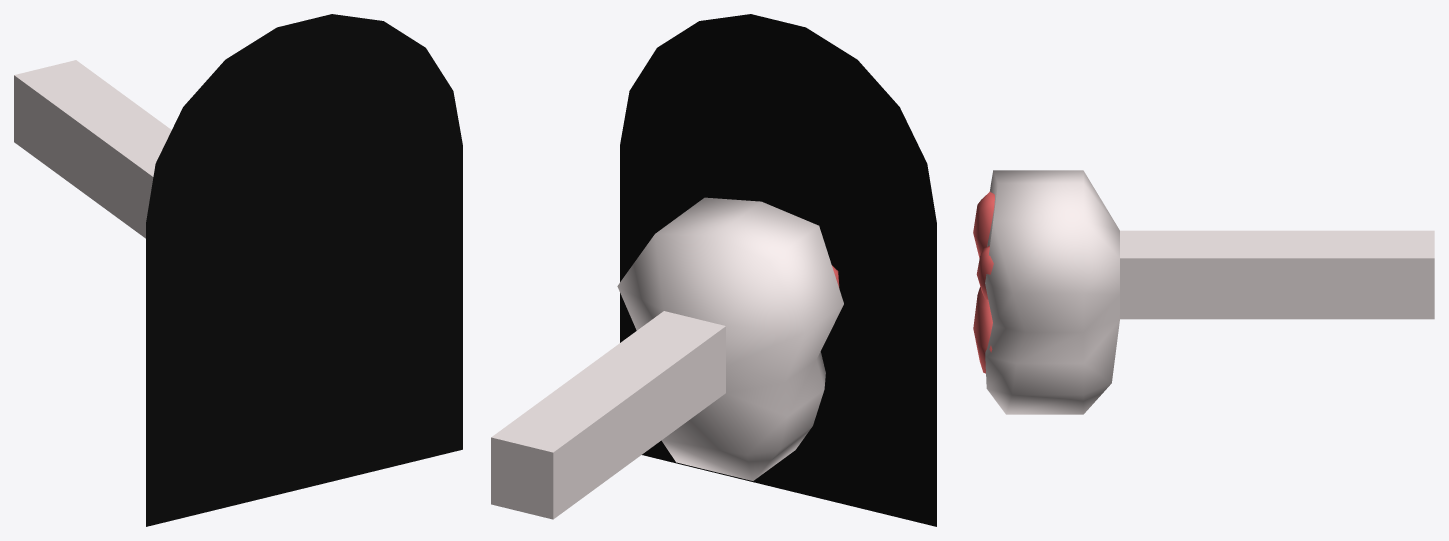
Rendered from nyang trap.FBX.
3 views of the same model, side by side, from view 1: azimuth 30°, elevation 25°; view 2: azimuth 150°, elevation 25°; view 3: azimuth 270°, elevation 25° (orthographic). The views are drawn at different scales.
Parts seen in each view (by area): view 1: Cylinder001, ChamferBox001; view 2: Cylinder001, ChamferBox001; view 3: ChamferBox001.
Part boxes in pixels (x1,y1,x2,y2): Cylinder001: [146, 14, 462, 526]; ChamferBox001: [14, 60, 171, 238]; Cylinder001: [620, 14, 936, 526]; ChamferBox001: [491, 197, 843, 519]; ChamferBox001: [973, 170, 1434, 414].
Size of the model in its own units: 6.62 by 9.34 by 9.33.
